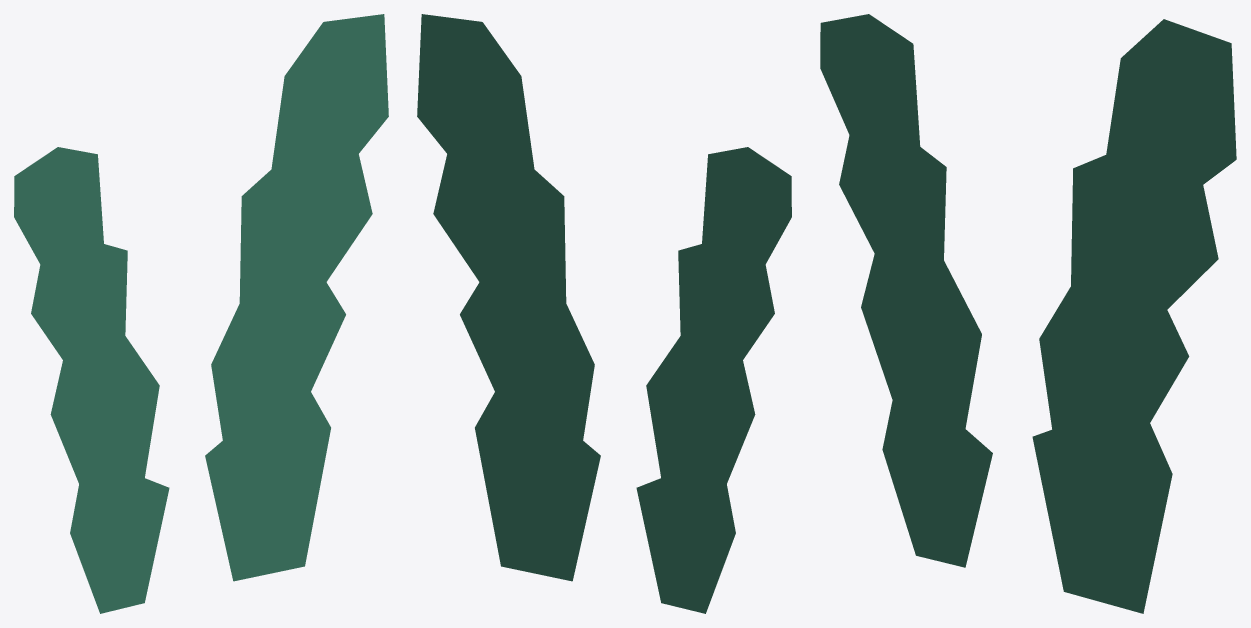
Rendered from Algae3_oneside.fbx.
3 views of the same model, side by side, from view 1: azimuth 30°, elevation 25°; view 2: azimuth 150°, elevation 25°; view 3: azimuth 330°, elevation 25° (orthographic). The views are drawn at different scales.
Parts seen in each view (by area): view 1: Algae3_oneside; view 2: Algae3_oneside; view 3: Algae3_oneside.
Boxes of the visible parts, box(x1,y1,x2,y2) form: Algae3_oneside: box(14, 14, 388, 613); Algae3_oneside: box(417, 14, 791, 613); Algae3_oneside: box(820, 14, 1236, 613).
Bounding box in the file's own units: 0.3849 × 0.5301 × 1.04e-07.
